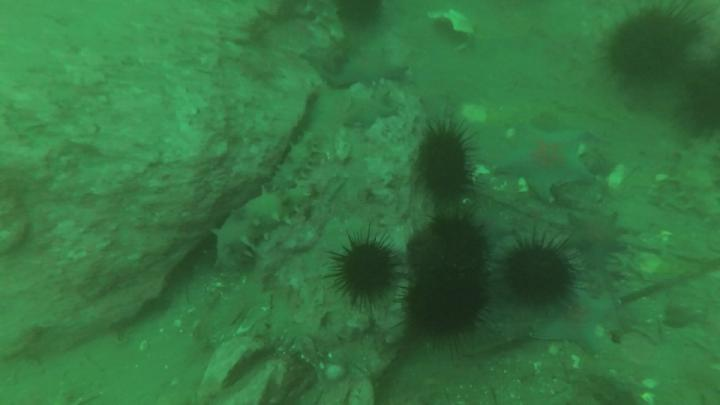echinus: (608, 11, 693, 81), (405, 277, 486, 339), (507, 245, 573, 308), (422, 216, 487, 275), (419, 131, 470, 197), (343, 240, 396, 298), (683, 58, 720, 130), (336, 2, 385, 32)
holothurian: (209, 187, 314, 267), (270, 130, 318, 187)
starfish: (499, 121, 590, 201), (535, 289, 612, 351), (568, 213, 629, 268), (333, 48, 409, 88), (347, 91, 397, 130)
